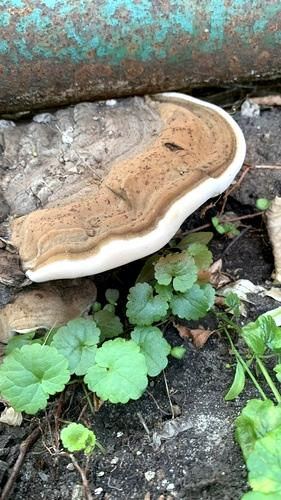Ganoderma - Fruit Body: (6, 88, 246, 288)
